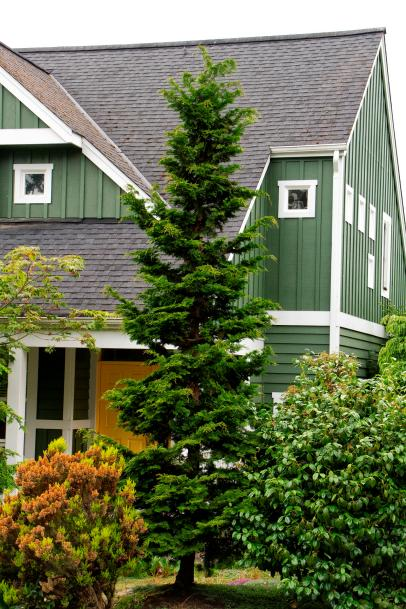tree: (120, 46, 291, 592)
